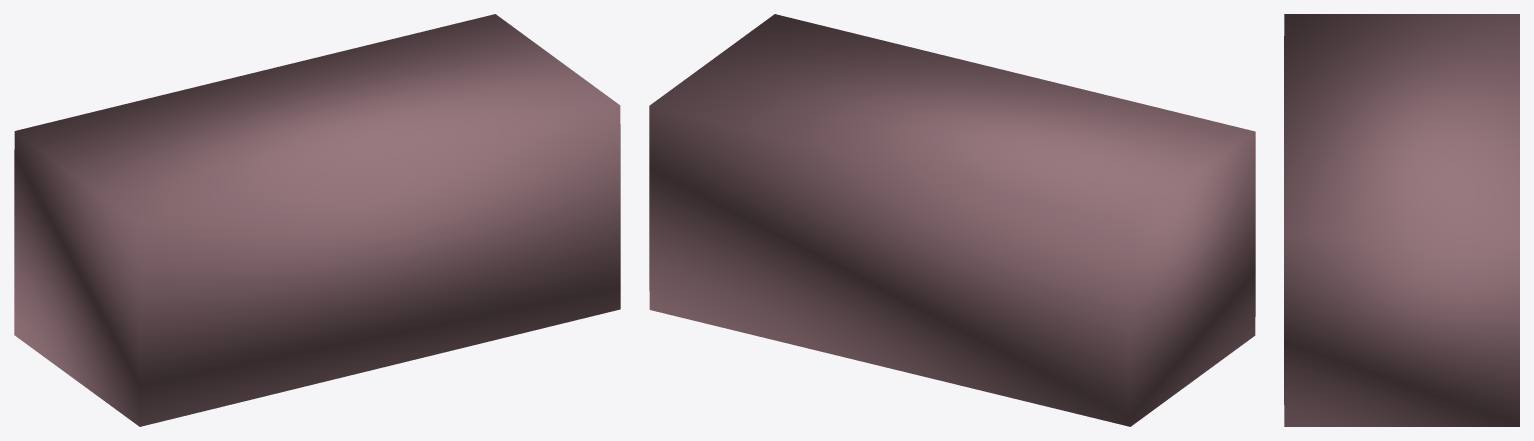
Rendered from SM_Schlachthof_Trough_LOD3.fbx.
3 renders of one model, left to right at view 1: azimuth 30°, elevation 25°; view 2: azimuth 150°, elevation 25°; view 3: azimuth 270°, elevation 25°, orthographic. The views are drawn at different scales.
Visible parts, largest first — view 1: SM_Schlachthof_Trough_LOD3; view 2: SM_Schlachthof_Trough_LOD3; view 3: SM_Schlachthof_Trough_LOD3.
Part boxes in pixels (x1,y1,x2,y2): SM_Schlachthof_Trough_LOD3: (14, 14, 620, 426); SM_Schlachthof_Trough_LOD3: (649, 14, 1255, 426); SM_Schlachthof_Trough_LOD3: (1284, 14, 1519, 426).
Size of the model in its own units: 2.19 by 0.8868 by 0.9868.
